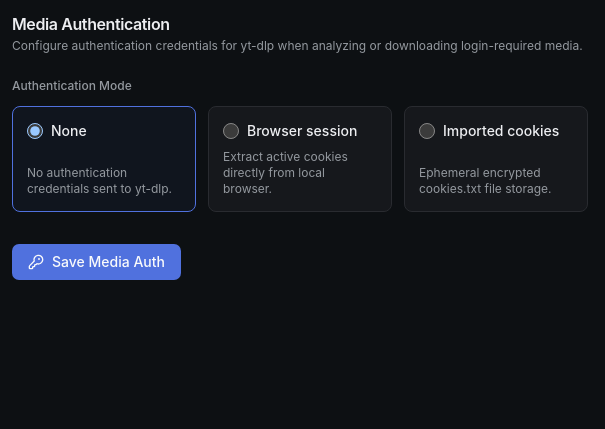
Test: MediaAuthPanel Component › reveals browser and profile controls when browser session mode is selected
Expected: the heading "Media Authentication" is shown, x1=12 y1=14 x2=170 y2=34
Click the radio button labelled "Browser session" at (231, 131), box x1=223 y1=123 x2=239 y2=139
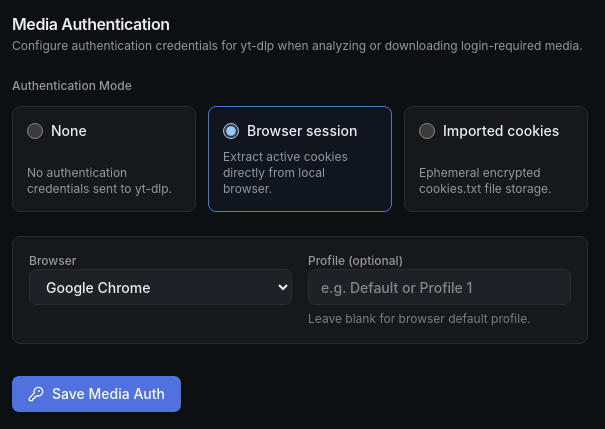
Result: the dropdown labelled "Browser" is shown at x1=29 y1=269 x2=292 y2=305
Result: the field named "Browser profile" is shown at x1=308 y1=269 x2=571 y2=305
